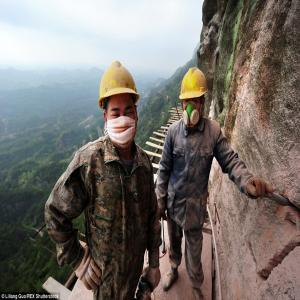yellow: (96, 60, 143, 153), (177, 67, 209, 127)
